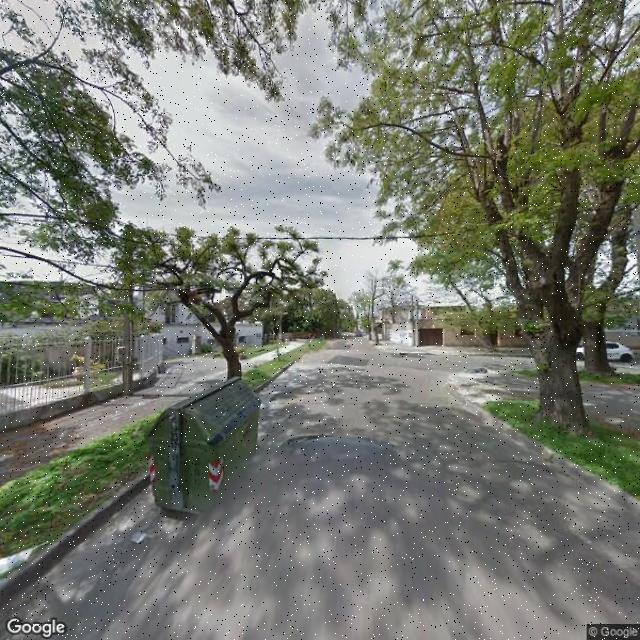garbage container: (140, 373, 273, 526)
